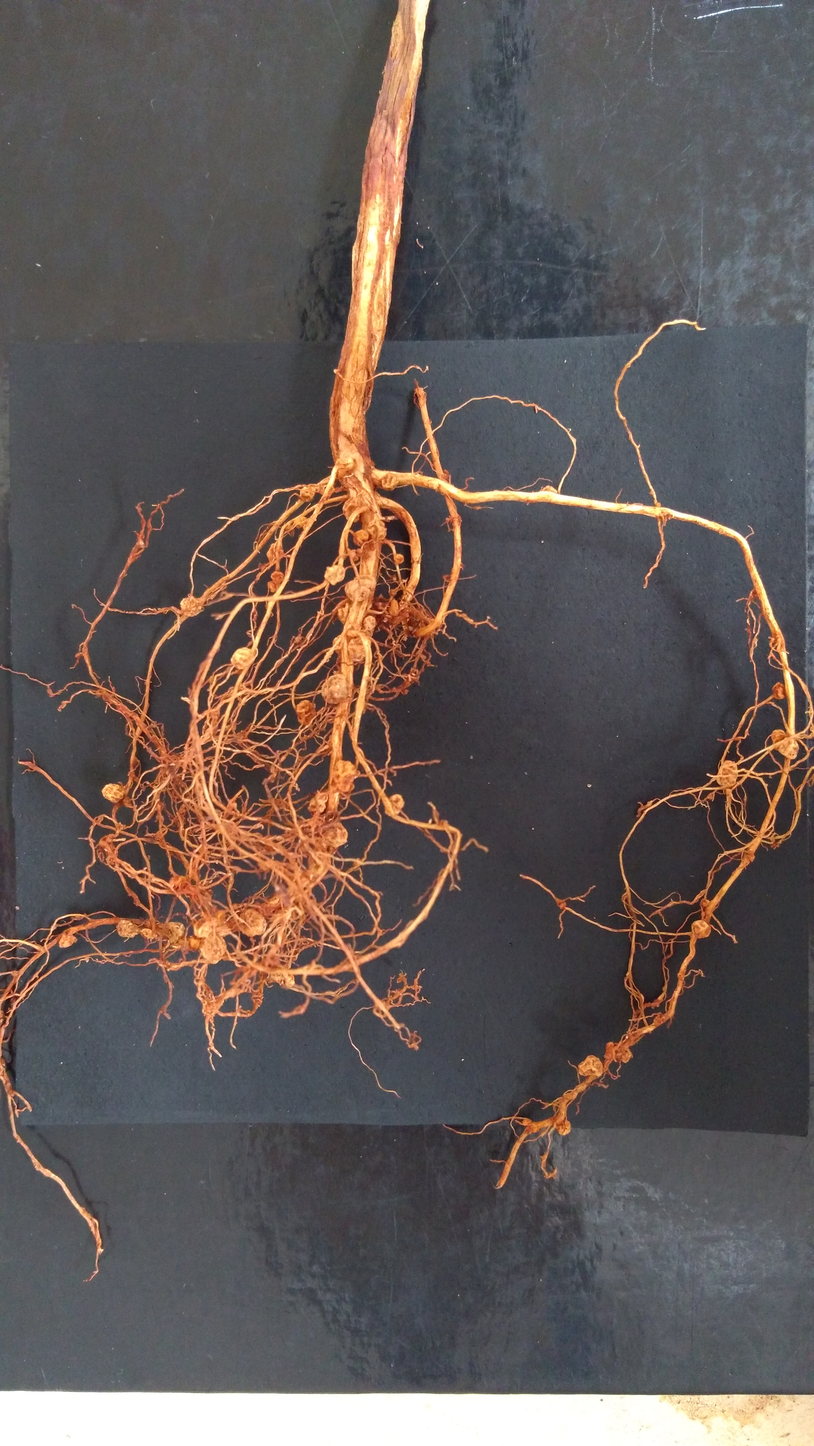nodule: (331, 759, 361, 794), (237, 907, 267, 937), (320, 673, 348, 705), (198, 934, 227, 964), (320, 821, 348, 850), (370, 596, 395, 628), (344, 579, 374, 602), (346, 636, 372, 662), (307, 850, 332, 877), (158, 921, 186, 944), (270, 964, 295, 989), (716, 760, 738, 788), (578, 1054, 603, 1078), (230, 647, 254, 670), (193, 916, 218, 938), (299, 816, 325, 837), (341, 496, 361, 523), (778, 736, 800, 760), (296, 700, 316, 725), (180, 596, 203, 617), (307, 791, 328, 814), (406, 610, 430, 630), (367, 517, 387, 541), (101, 783, 125, 803), (384, 793, 404, 817), (116, 919, 141, 938), (324, 565, 345, 586), (691, 919, 711, 939), (266, 543, 284, 565), (334, 458, 353, 478), (193, 887, 212, 907), (336, 600, 351, 625), (615, 1044, 632, 1064), (354, 575, 375, 591), (381, 473, 399, 491), (352, 529, 370, 546), (625, 1029, 644, 1045), (331, 634, 346, 654), (555, 1119, 572, 1136), (299, 485, 315, 503), (169, 875, 187, 891), (59, 933, 77, 948), (772, 681, 786, 700), (139, 927, 158, 941), (603, 1041, 616, 1061), (362, 615, 378, 631), (98, 836, 115, 851), (771, 729, 786, 745), (387, 597, 399, 617), (270, 570, 285, 586), (292, 515, 309, 529), (188, 935, 201, 953), (106, 847, 118, 866), (153, 827, 168, 842), (318, 484, 335, 496), (177, 939, 189, 955), (539, 484, 558, 494), (525, 1122, 540, 1133), (347, 549, 359, 562), (653, 1012, 664, 1026), (555, 898, 567, 910), (284, 523, 295, 536), (211, 808, 222, 821), (267, 580, 277, 594), (394, 553, 405, 565), (335, 655, 343, 671), (575, 1082, 587, 1092), (621, 890, 631, 901), (352, 858, 362, 869), (700, 898, 710, 908), (521, 1118, 532, 1127), (142, 917, 151, 928), (294, 634, 302, 644), (389, 588, 397, 597), (355, 548, 363, 557), (219, 583, 228, 591), (748, 853, 755, 863), (401, 688, 409, 696), (401, 633, 408, 642), (445, 516, 453, 523), (408, 625, 416, 632), (708, 792, 714, 801), (443, 472, 449, 480), (655, 501, 661, 508), (775, 840, 782, 845), (392, 575, 397, 582), (726, 788, 731, 794), (443, 469, 449, 474), (75, 652, 80, 658), (701, 910, 705, 917), (739, 756, 744, 760), (775, 844, 779, 848)
